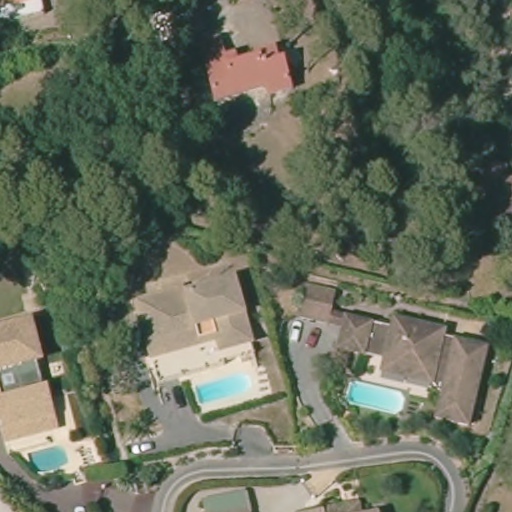pool: (344, 371, 413, 418), (190, 373, 259, 398), (22, 445, 77, 475)
